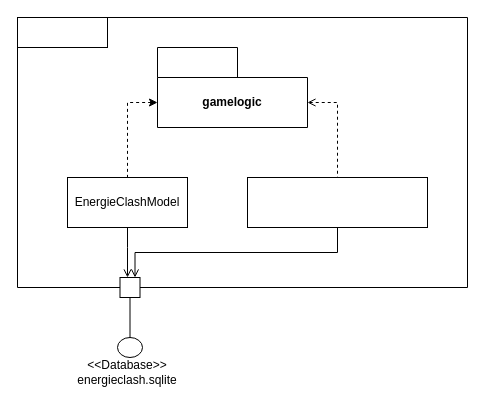
This 485x405 diagram has some shape labels left out. The box of each missing label's shape, as (x1, y1, x2, y2) in pixels:
EnergieClashRoundSupplier: (246, 176, 428, 228)
model: (16, 16, 108, 48)
